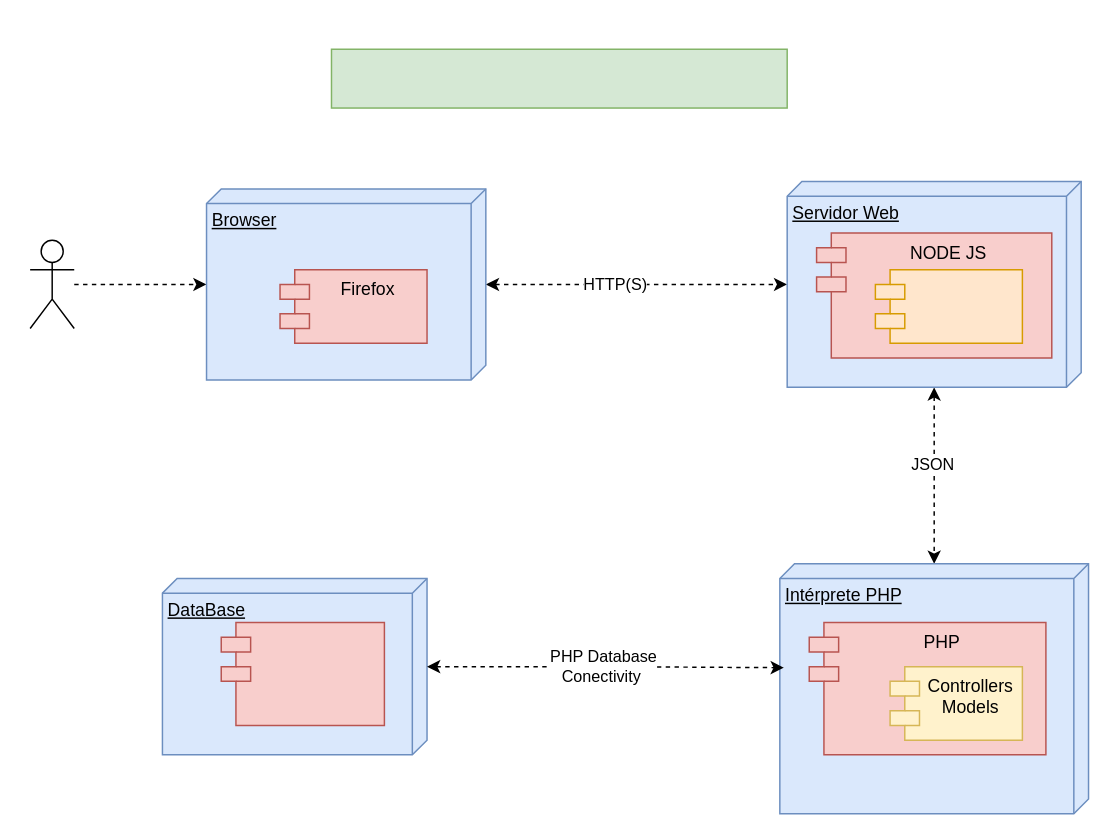
Image size: 1114x839. Some labels were removed from this diagram. The shapes that lost their labels are listed below. From the top down, each one's centre as x and y in pixels, then its label:
the point at 558,78: Diagrama de despliegue
the point at 51,284: Cliente
the point at 948,305: componentes de angular
the point at 302,673: MySQL
